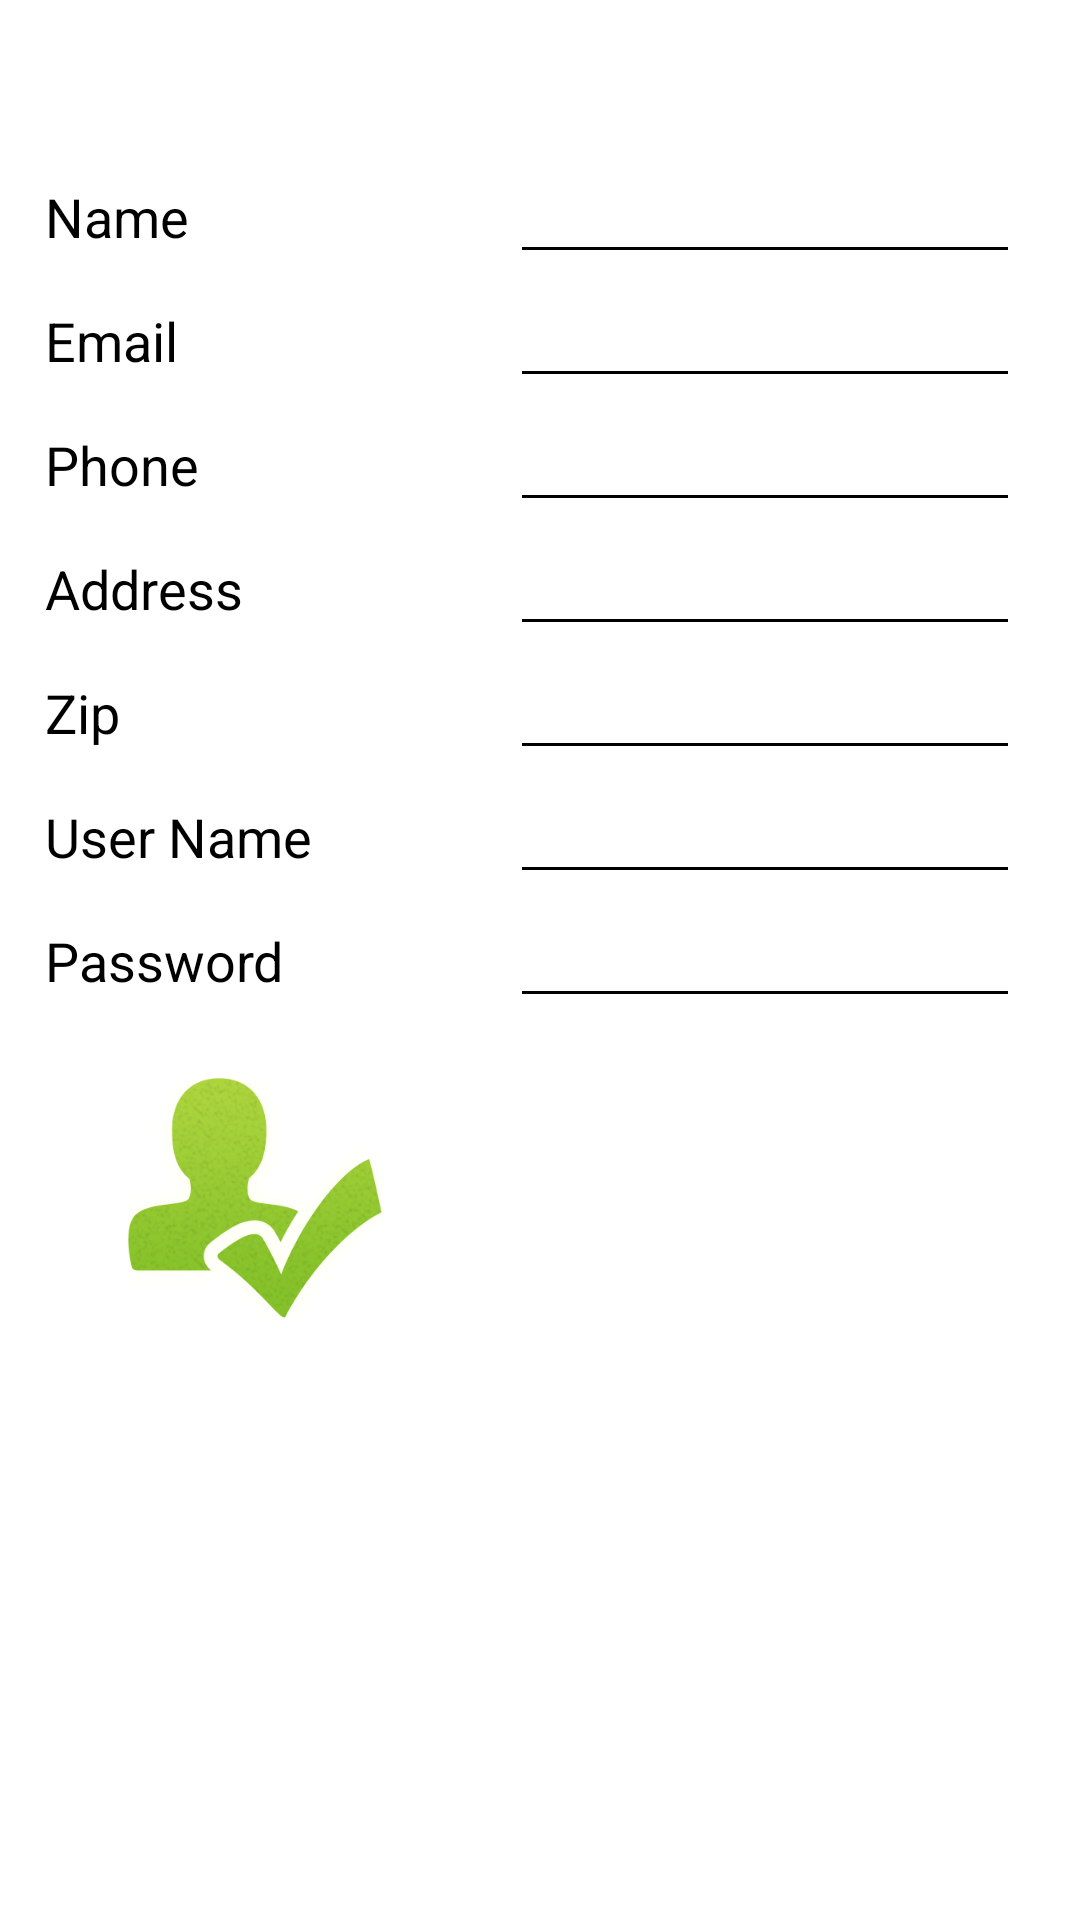

Named icons in this screenshot (1080 × 1920) and their bounding boxes, [x1,y1,x2,y2]:
register: [128,1078,382,1318]
